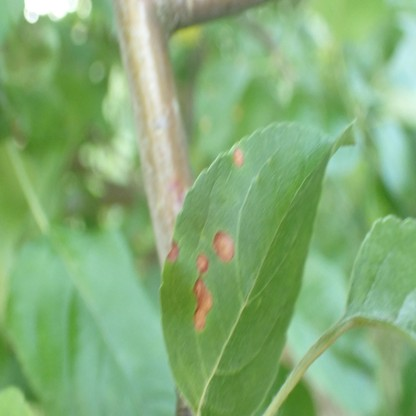frogeye_leaf_spot: (193, 279, 214, 329), (213, 232, 235, 262), (195, 253, 209, 274), (167, 242, 179, 259), (234, 147, 244, 167)
